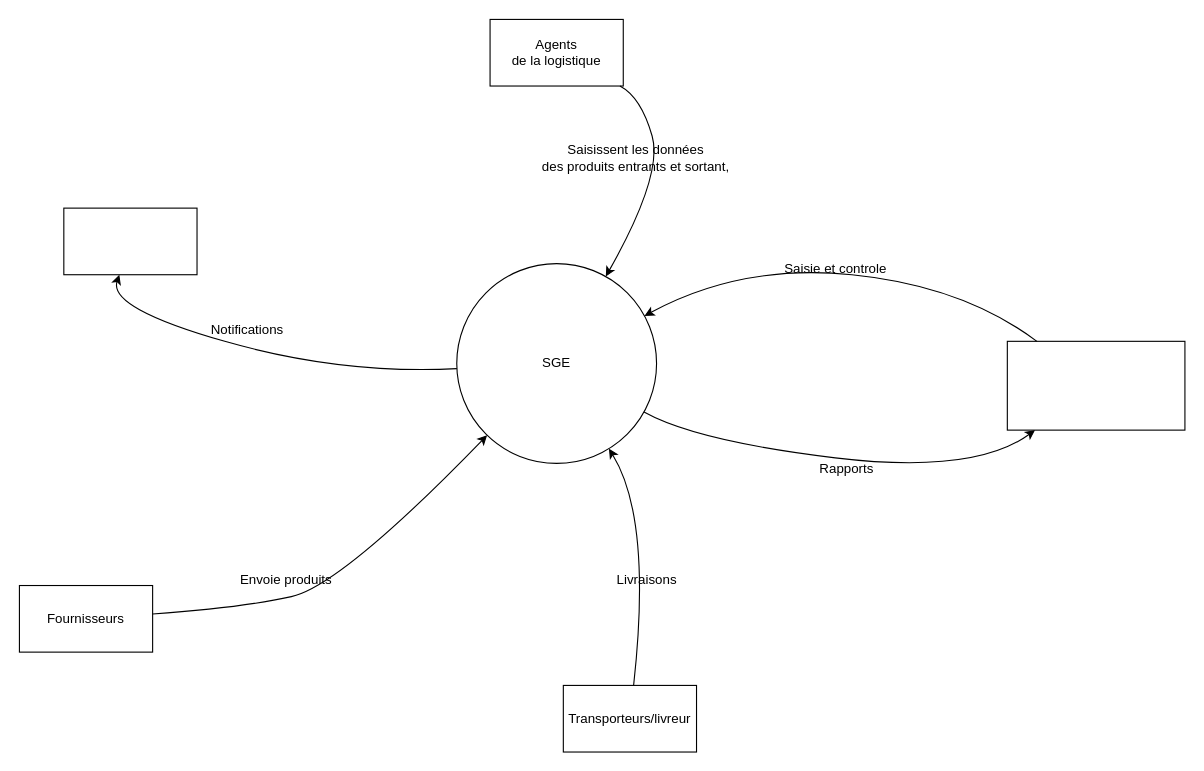
The diagram is 1204 pixels wide and 771 high, and some of its shapes have lost their labels. The shapes that lost their labels are listed below. From the top down, each one's centre as x and y in pixels, then its label:
point (130, 241): Destinataires
point (1095, 385): Responsable et agents de la logistique
